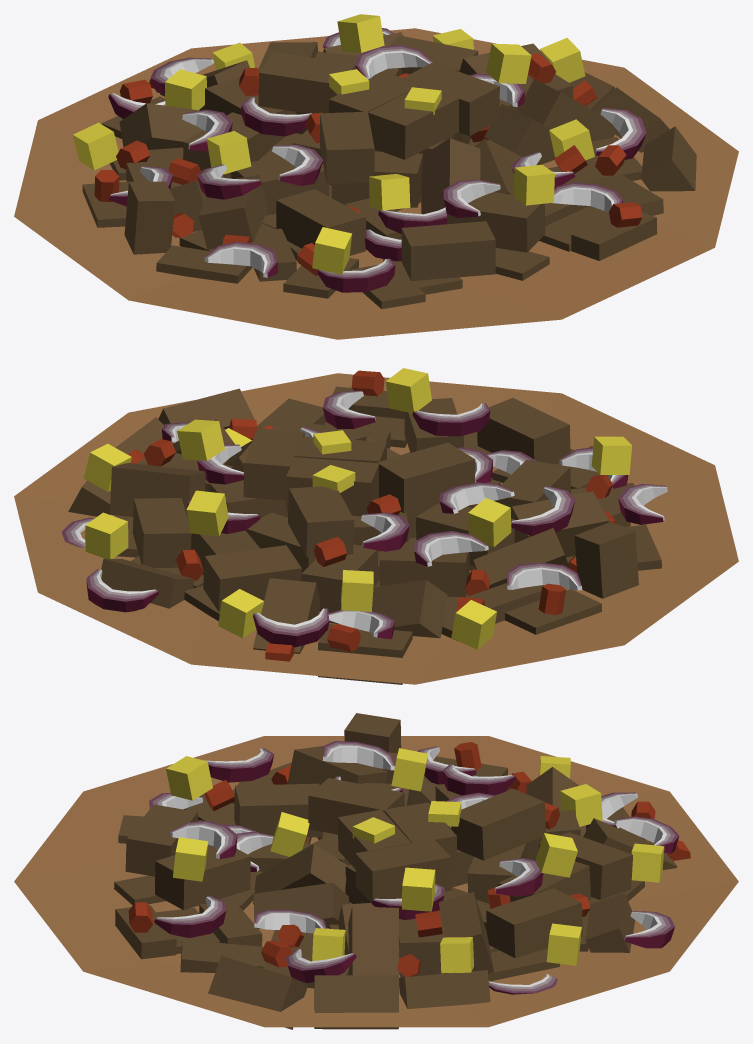
File: Kilawin na kambing.fbx
The picture shows the model from 3 angles, top to bottom: view 1: azimuth 30°, elevation 25°; view 2: azimuth 150°, elevation 25°; view 3: azimuth 270°, elevation 25°; orthographic projection. The views are drawn at different scales.
Parts seen in each view (by area): view 1: Kilawin na Kambing; view 2: Kilawin na Kambing; view 3: Kilawin na Kambing.
Boxes of the visible parts, x1=… form: Kilawin na Kambing: x1=14, y1=14, x2=738, y2=339; Kilawin na Kambing: x1=14, y1=368, x2=738, y2=684; Kilawin na Kambing: x1=14, y1=713, x2=738, y2=1029.
Size of the model in its own units: 102 by 18.7 by 107.
